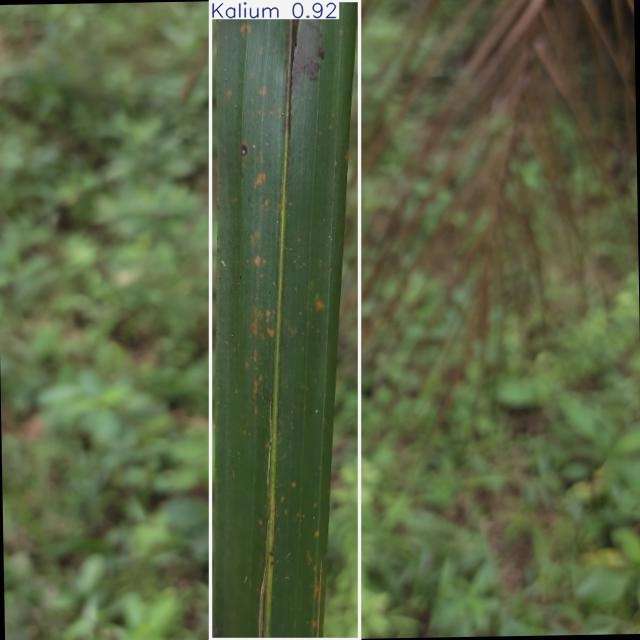Kalium: (211, 0, 360, 640)
